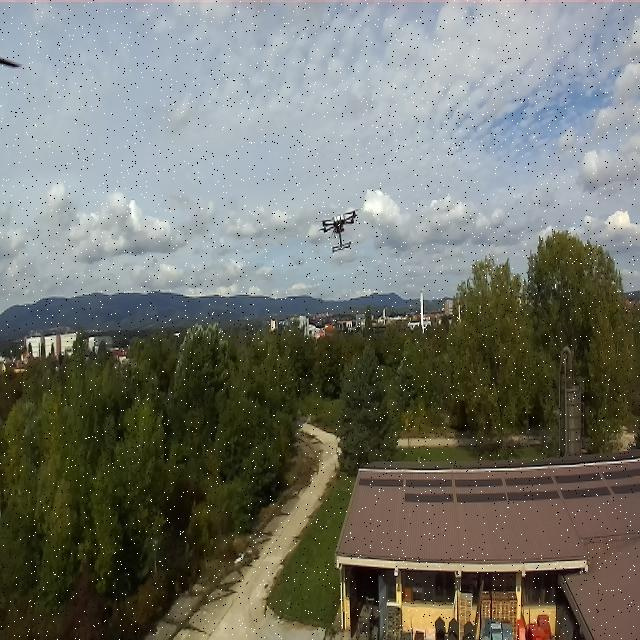UAV: (313, 201, 365, 258)
